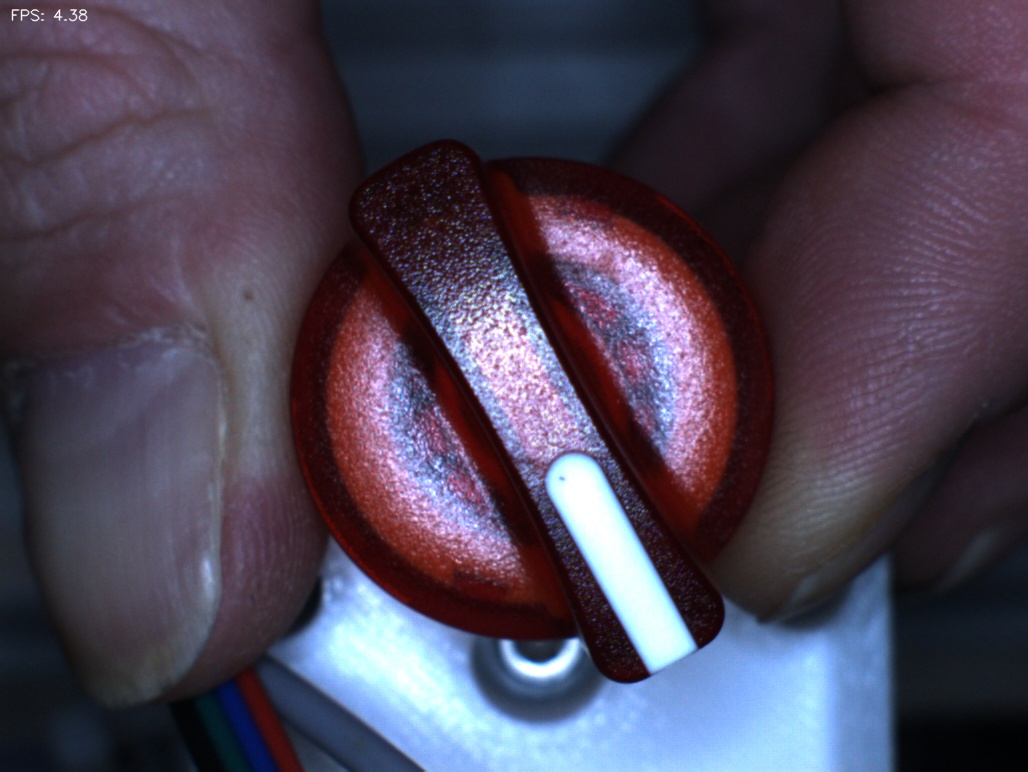PointNoir: (534, 447, 597, 509)
